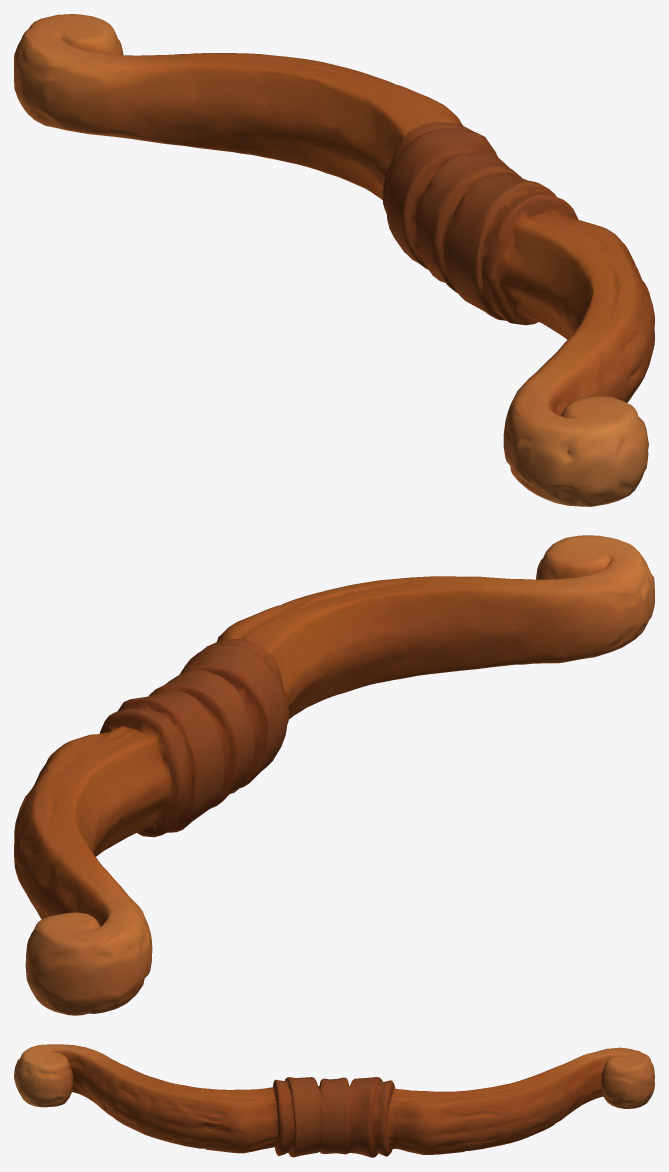
Rendered from Arm_short_bow-CFLOom-q.glb.
The picture shows the model from 3 angles, top to bottom: view 1: azimuth 30°, elevation 25°; view 2: azimuth 150°, elevation 25°; view 3: azimuth 270°, elevation 25°; orthographic projection. The views are drawn at different scales.
Parts seen in each view (by area): view 1: Arm_short_bow; view 2: Arm_short_bow; view 3: Arm_short_bow.
Boxes of the visible parts, x1,y1,x2,y2 form: Arm_short_bow: [14, 14, 654, 506]; Arm_short_bow: [14, 535, 654, 1015]; Arm_short_bow: [14, 1044, 654, 1157].
Bounding box in the file's own units: 0.4516 × 0.2058 × 1.6.
Materials: 1 (1 with a texture image).
